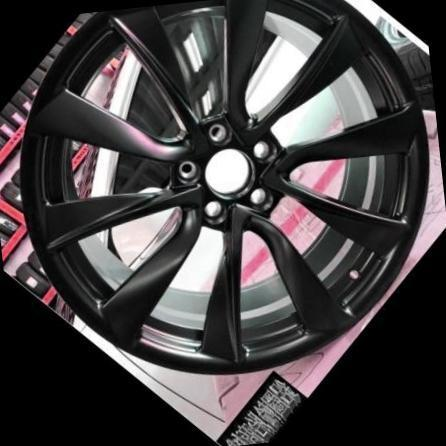hole: (245, 132, 283, 170), (195, 192, 232, 230), (202, 115, 237, 152), (172, 152, 207, 188), (243, 180, 277, 216)
